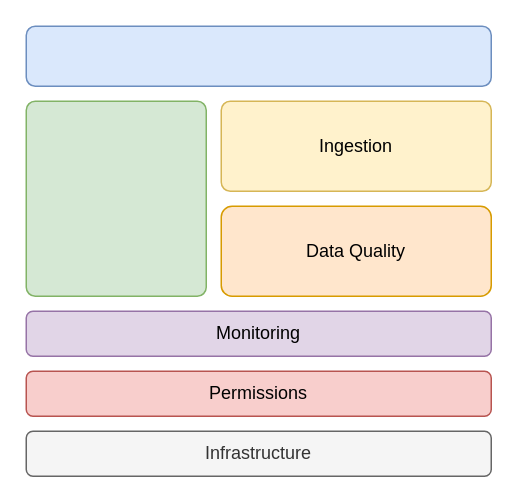
Image size: 518x503. Some labels were removed from this diagram. The box of each missing label's shape, as (x1, y1, x2, y2) in pixels:
Extraction: (25, 100, 206, 296)
Orchestration: (25, 25, 491, 86)
